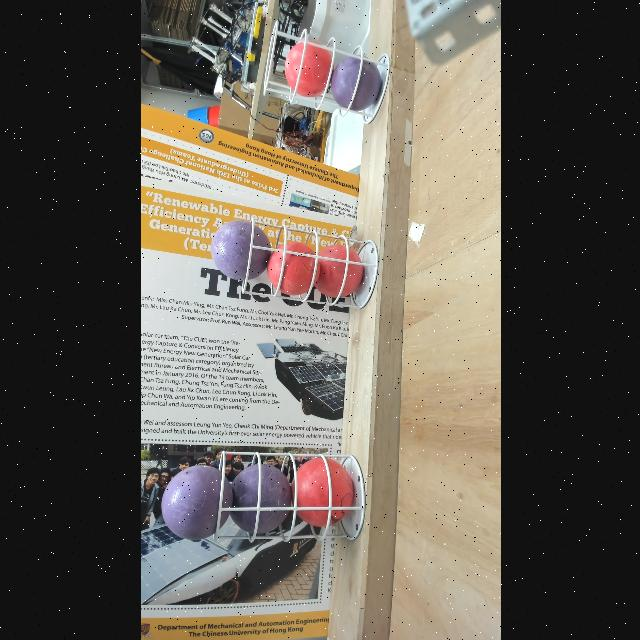P: (160, 464, 232, 542), (226, 463, 292, 535), (210, 219, 270, 281), (330, 55, 382, 112)
R: (289, 456, 355, 528), (266, 242, 320, 296), (284, 39, 334, 97), (311, 244, 364, 298)
S: (209, 450, 367, 544), (260, 20, 392, 124), (239, 218, 379, 310)
